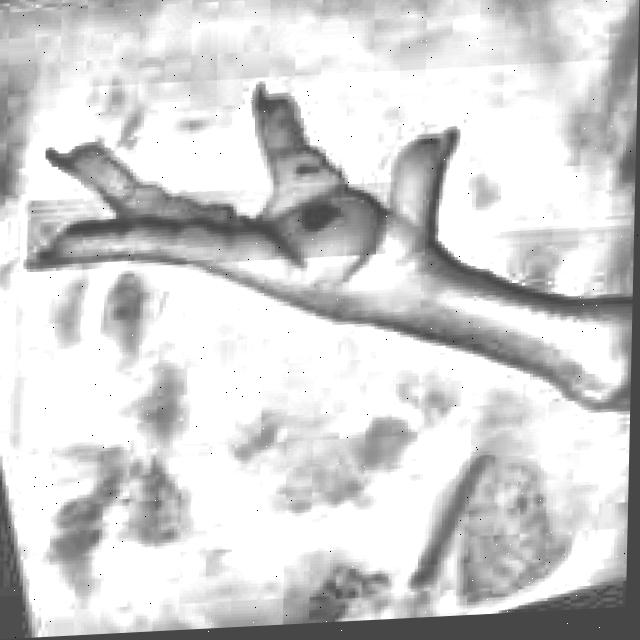Bumble foot: (288, 173, 369, 267)
